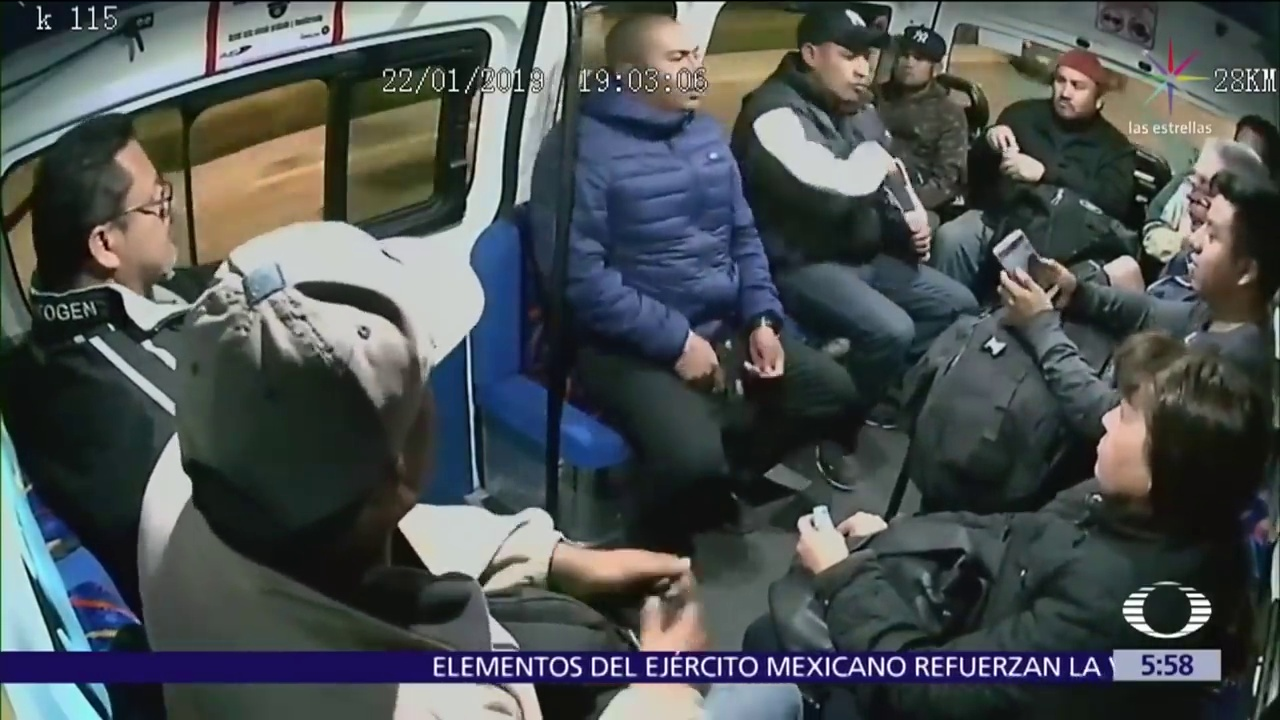pistol: (687, 337, 746, 404)
